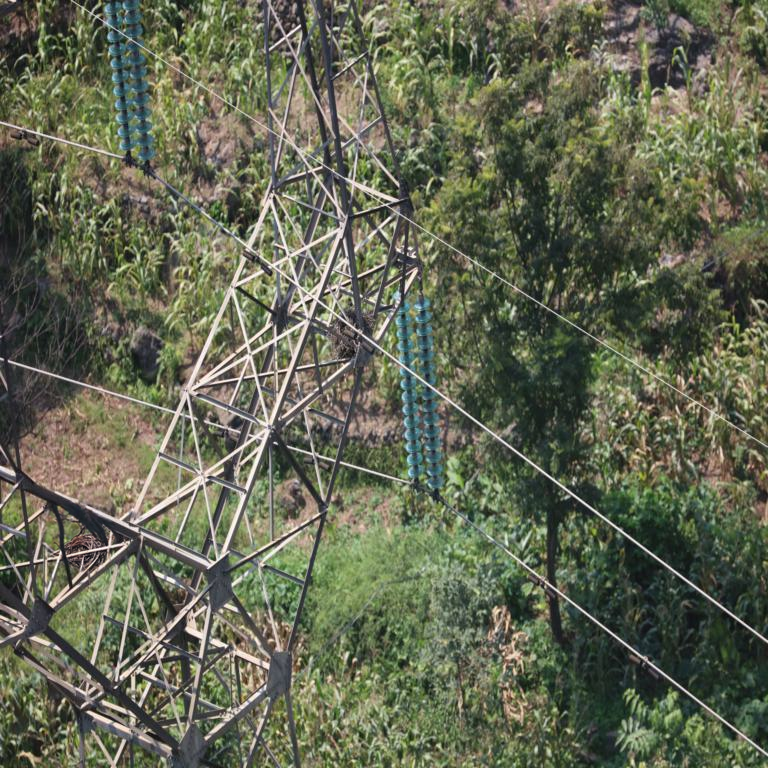nest: (326, 308, 376, 360), (62, 533, 109, 572)
